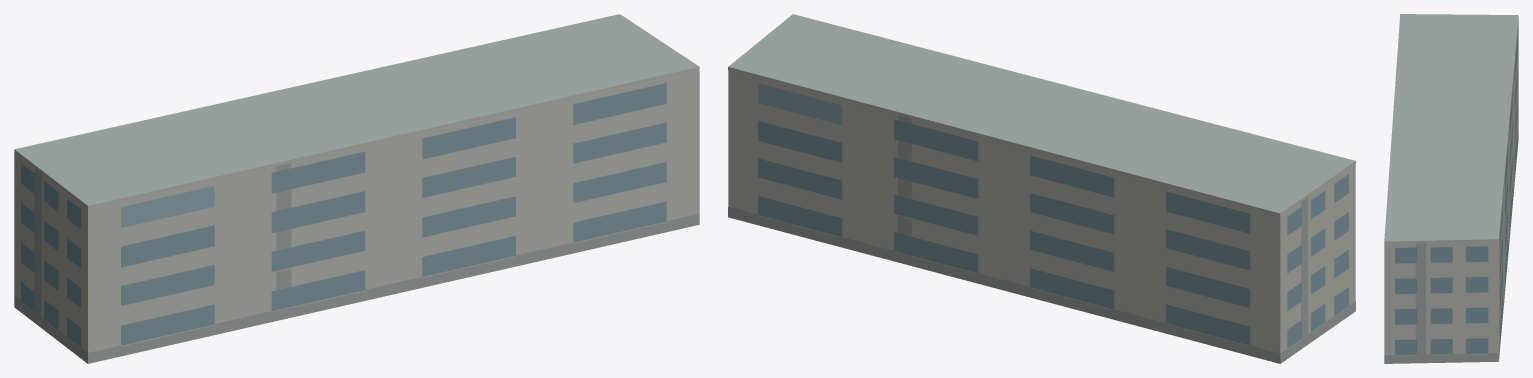
The model's file is residential-01d28bc2-7c5f-4884-a81f-cd058e95accb.glb.
3 views of the same model, side by side, from view 1: azimuth 30°, elevation 25°; view 2: azimuth 150°, elevation 25°; view 3: azimuth 270°, elevation 25° (orthographic). The views are drawn at different scales.
Parts seen in each view (by area): view 1: residential-01d28bc2-7c5f-4884-a81f-cd058e95accb.tmp; view 2: residential-01d28bc2-7c5f-4884-a81f-cd058e95accb.tmp; view 3: residential-01d28bc2-7c5f-4884-a81f-cd058e95accb.tmp.
Boxes of the visible parts, left/top/right/bottom form: residential-01d28bc2-7c5f-4884-a81f-cd058e95accb.tmp: left=14, top=14, right=699, bottom=363; residential-01d28bc2-7c5f-4884-a81f-cd058e95accb.tmp: left=728, top=14, right=1355, bottom=363; residential-01d28bc2-7c5f-4884-a81f-cd058e95accb.tmp: left=1384, top=14, right=1518, bottom=363.
Bounding box in the file's own units: 48.6 × 12.2 × 12.15.
